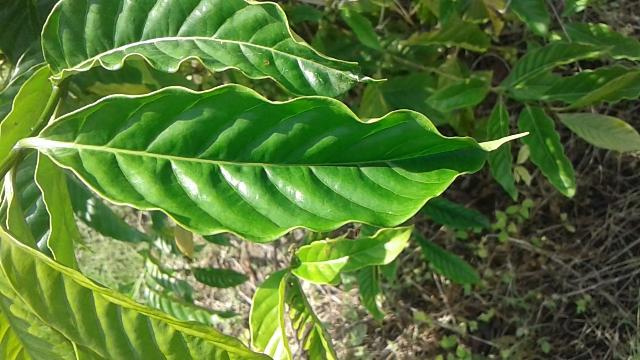healthy: (34, 80, 540, 243)
